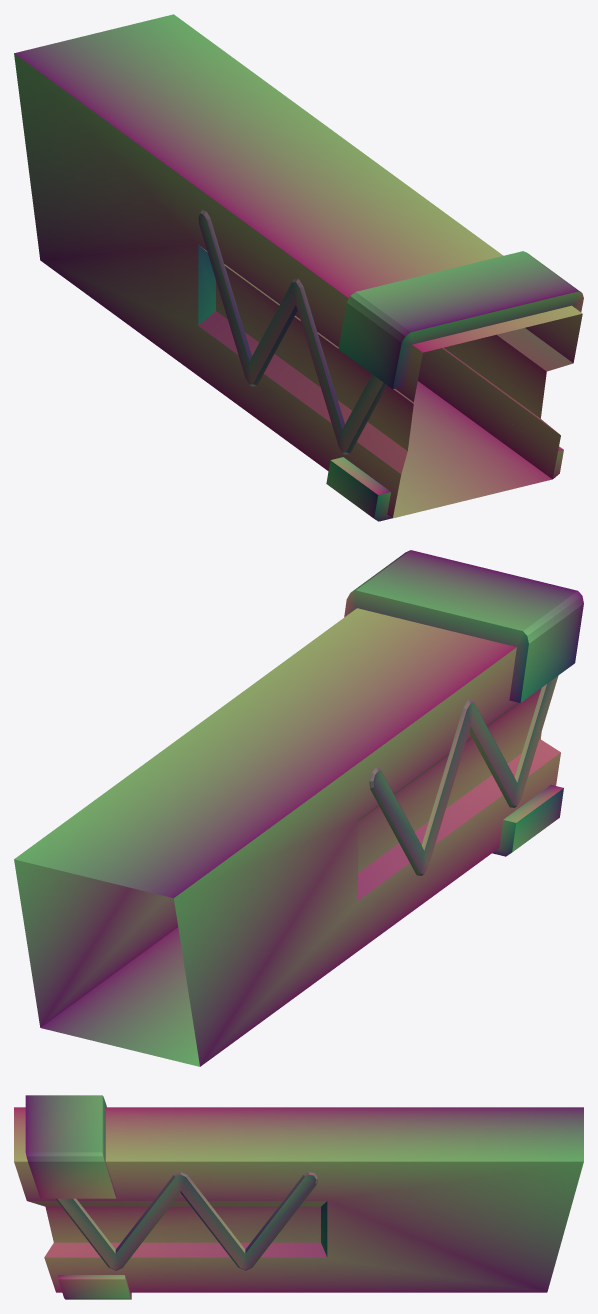
Rendered from Eff_Nostradamus_weapon08.fbx.
3 views of the same model, one above another, from view 1: azimuth 30°, elevation 25°; view 2: azimuth 150°, elevation 25°; view 3: azimuth 270°, elevation 25° (orthographic). The views are drawn at different scales.
Parts seen in each view (by area): view 1: Eff_Nostradamus_weapon08; view 2: Eff_Nostradamus_weapon08; view 3: Eff_Nostradamus_weapon08.
Boxes of the visible parts, x1,y1,x2,y2 form: Eff_Nostradamus_weapon08: (14,14,583,521); Eff_Nostradamus_weapon08: (14,550,583,1066); Eff_Nostradamus_weapon08: (14,1095,583,1299).
Bounding box in the file's own units: 0.2277 × 0.2452 × 0.8683.
